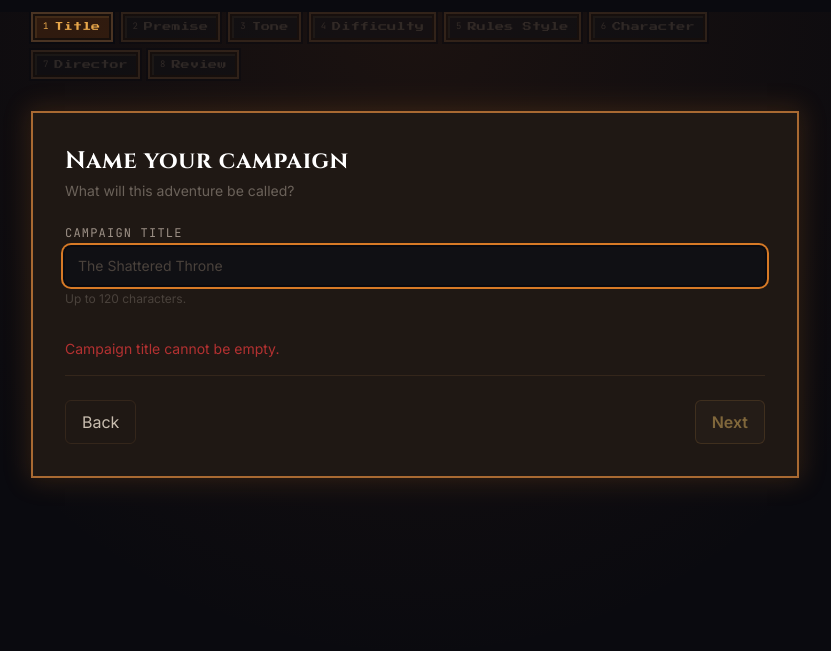
Test: CampaignWizard — navigation › completed step pills are navigable
Type "Test" into the field labelled "Campaign Title" at (415, 266), box [65,247,765,285]
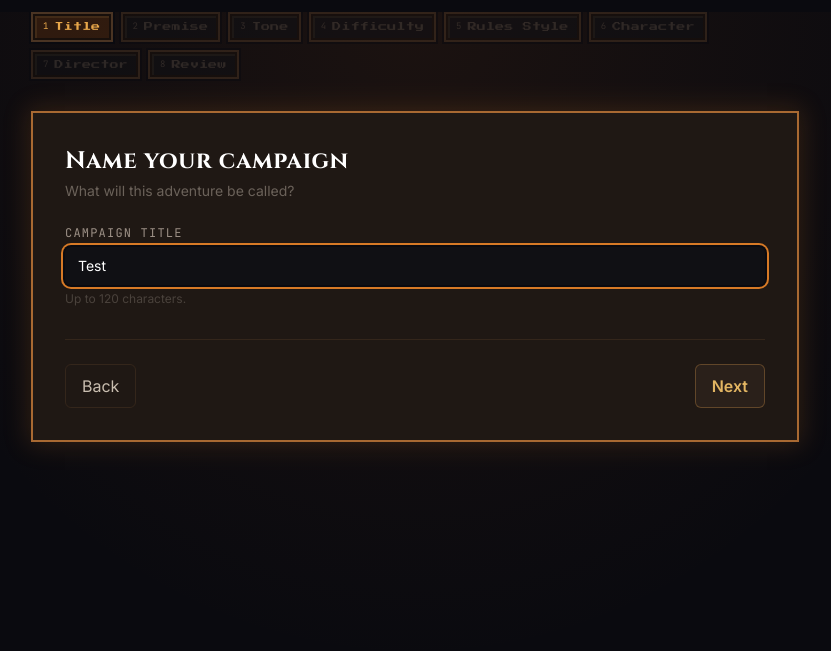
Click the button "Next" at (730, 386), box [695,364,765,408]
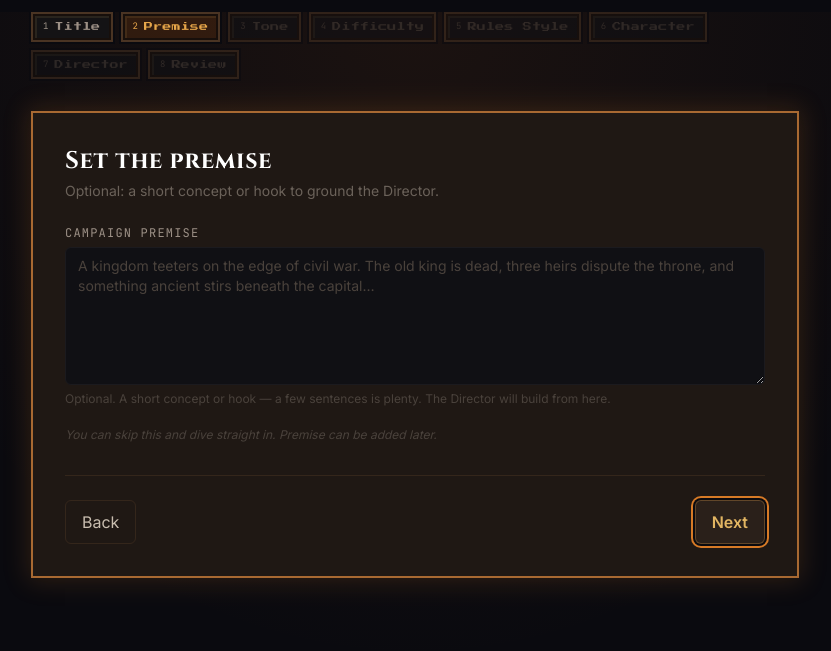
Click the button "Next" at (730, 522), box [695,500,765,544]
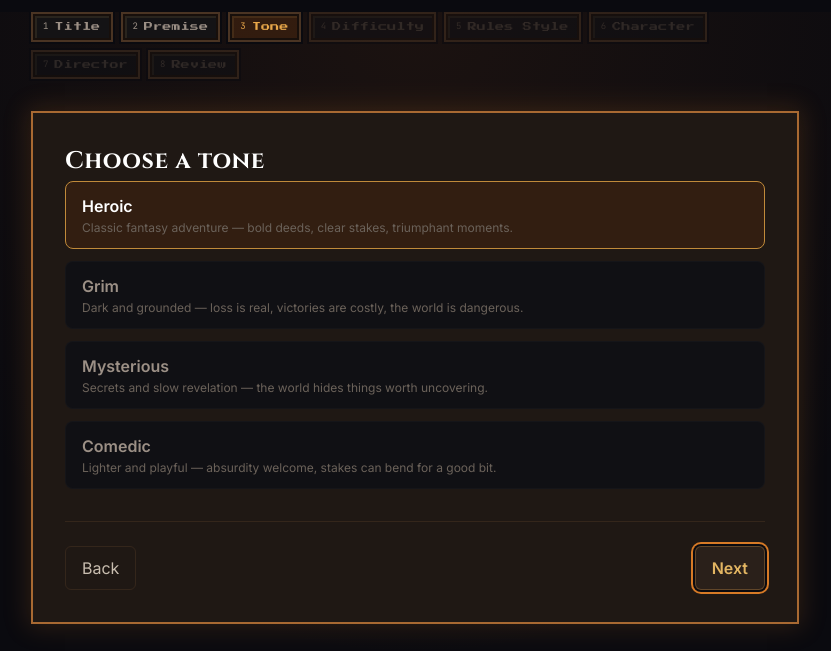
Click the button "1 Title" at (72, 27), box [31,12,112,42]
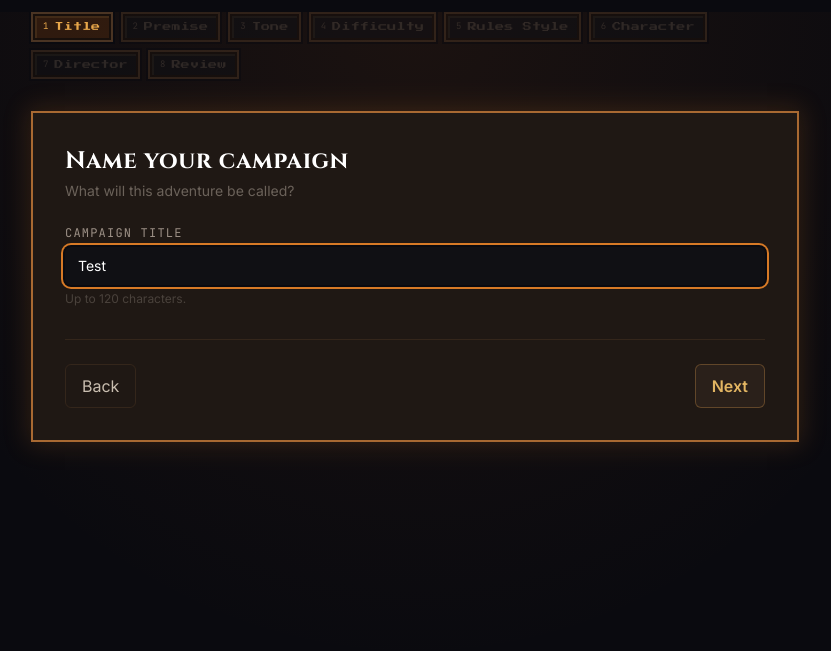
Check: the heading "Name your campaign" is shown, box [65,145,349,177]
